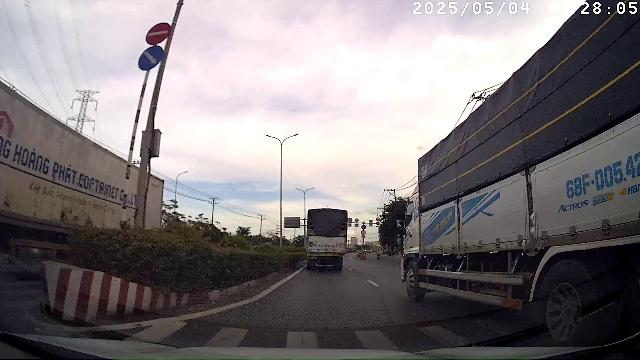102-cam-di-nguoc-chieu: (145, 21, 171, 45)
302a-huong-phai-di-vong-chuong-ngai-vat-1: (137, 45, 164, 71)
